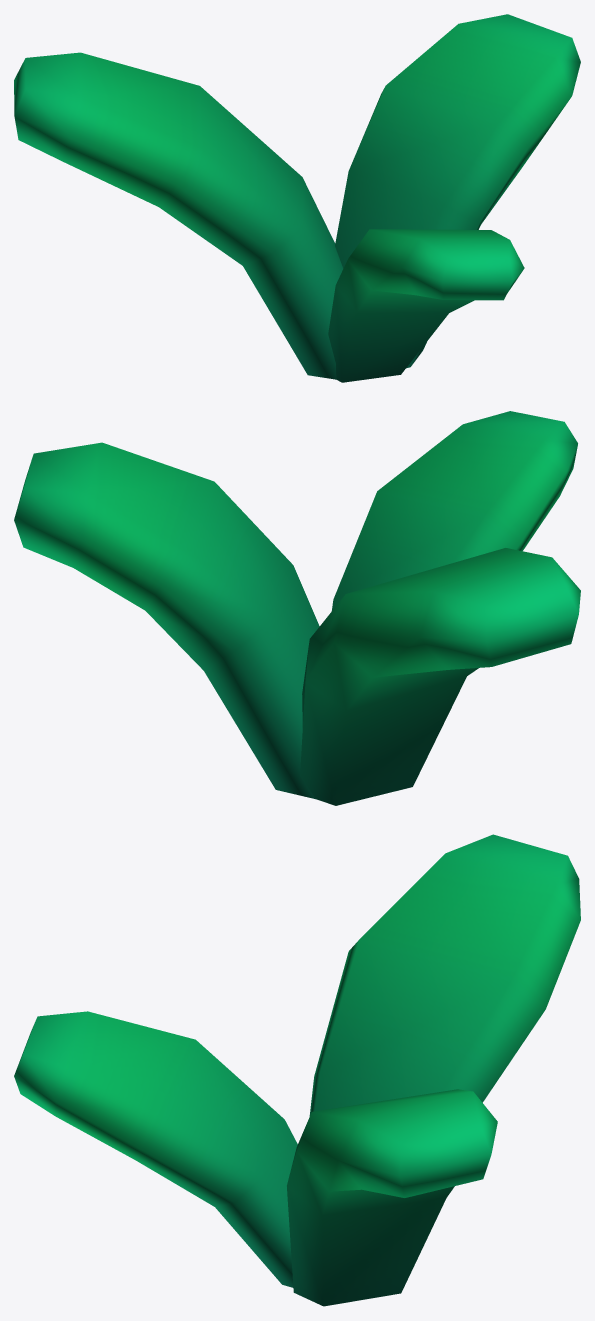
The model's file is Plant_003.glb.
3 views of the same model, one above another, from view 1: azimuth 30°, elevation 25°; view 2: azimuth 150°, elevation 25°; view 3: azimuth 270°, elevation 25° (orthographic). The views are drawn at different scales.
Parts seen in each view (by area): view 1: Plant_003; view 2: Plant_003; view 3: Plant_003.
Part boxes in pixels (box(x1,y1,x2,y2)): Plant_003: box(14, 14, 580, 382); Plant_003: box(14, 411, 580, 805); Plant_003: box(14, 834, 580, 1306).
Bounding box in the file's own units: 0.4331 × 0.2229 × 0.3763.
1 material, 1 textured.
